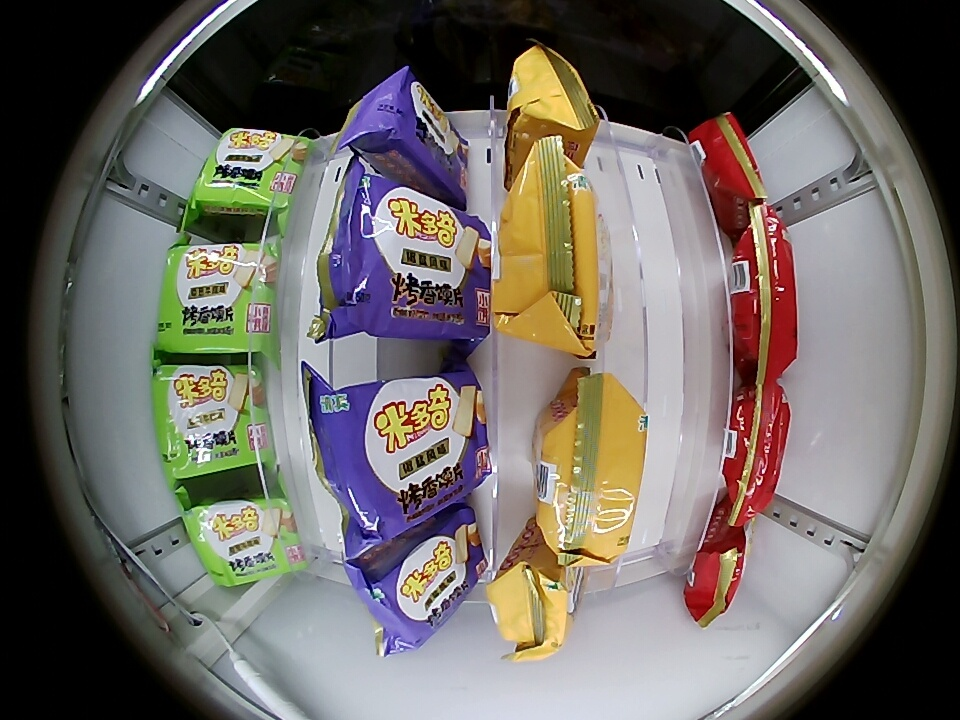kaomo_gali: (494, 148, 610, 354), (533, 374, 647, 560), (504, 46, 600, 170), (488, 530, 581, 658)
kaomo_jiaoyan: (303, 371, 493, 547), (316, 166, 494, 341), (348, 505, 488, 654), (336, 69, 469, 209)
kaomo_shaokao: (728, 224, 796, 375), (722, 382, 790, 515), (695, 116, 768, 236), (683, 510, 749, 623)
kaomo_xiangcon: (152, 362, 274, 483), (156, 240, 282, 355), (187, 128, 313, 222), (183, 491, 305, 586)
